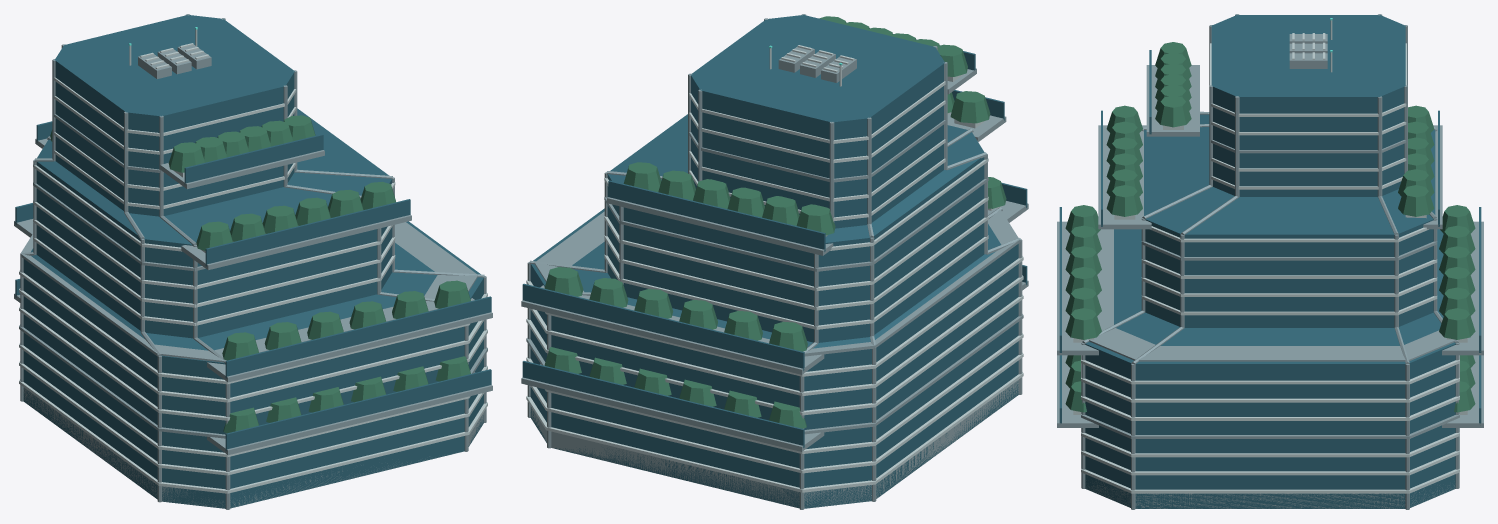
The model's file is Cascade.fbx.
3 views of the same model, side by side, from view 1: azimuth 30°, elevation 25°; view 2: azimuth 150°, elevation 25°; view 3: azimuth 270°, elevation 25° (orthographic). The views are drawn at different scales.
Visible parts, largest first — view 1: Far FutureGlass, Near FutureShell, Near FutureMetal, Near FutureLeaf, Near FutureGlass; view 2: Far FutureGlass, Near FutureShell, Near FutureMetal, Near FutureLeaf, Near FutureGlass; view 3: Far FutureGlass, Near FutureShell, Near FutureMetal, Near FutureLeaf, Near FutureGlass.
Part boxes in pixels (<box>): Far FutureGlass: <box>23,15,483,508</box>; Near FutureShell: <box>14,14,492,509</box>; Near FutureMetal: <box>19,29,487,493</box>; Near FutureLeaf: <box>50,115,470,433</box>; Near FutureGlass: <box>15,121,491,451</box>; Far FutureGlass: <box>530,15,1018,508</box>; Near FutureShell: <box>521,14,1028,509</box>; Near FutureMetal: <box>526,45,1023,492</box>; Near FutureLeaf: <box>544,16,1006,428</box>; Near FutureGlass: <box>522,22,1027,447</box>; Far FutureGlass: <box>1085,15,1455,508</box>; Near FutureShell: <box>1057,14,1483,509</box>; Near FutureMetal: <box>1073,20,1467,493</box>; Near FutureLeaf: <box>1065,42,1475,412</box>; Near FutureGlass: <box>1059,50,1481,425</box>.
Size of what is drawn, in the model's own units: 99.47 by 106 by 112.
